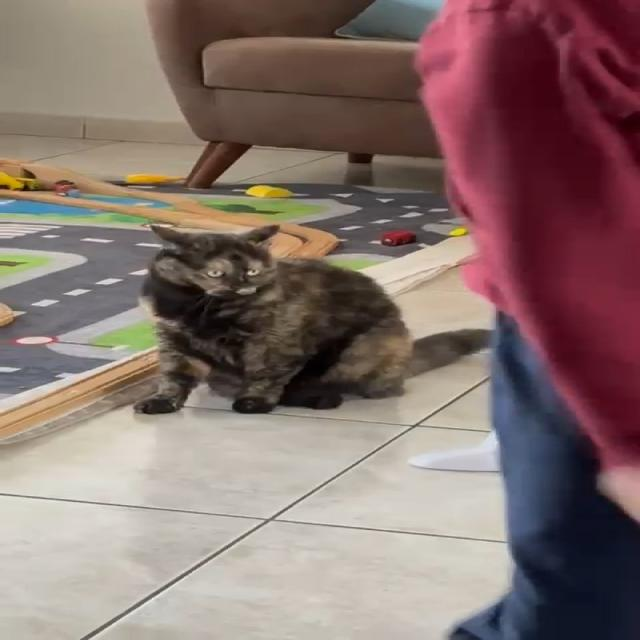authorized: (132, 223, 492, 415)
